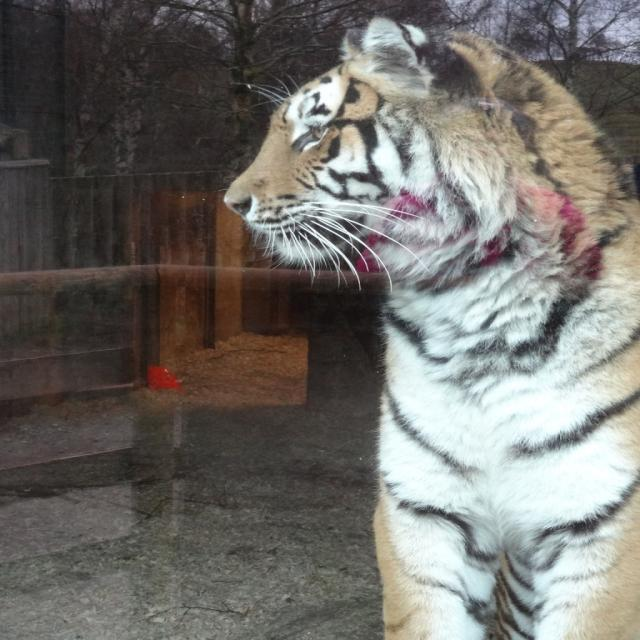Tiger: (218, 13, 640, 640)
